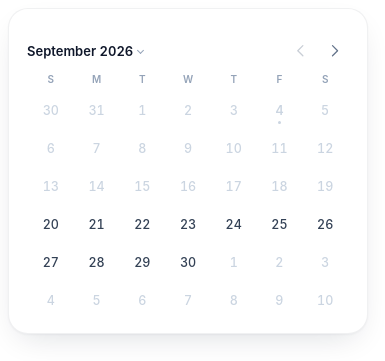
Test: calendar zoom: grid semantics › keeps unreachable cells in the grid but marks them aria-disabled
The image size is (385, 361).
Click the button with aria-label "zoom out".
click(85, 51)  # box 20,39 -> 150,63
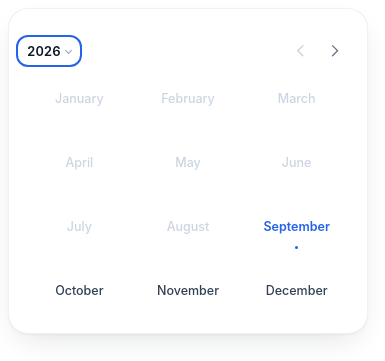
Expected: the cell named "August 2026" is enabled, 137,197 -> 239,255
